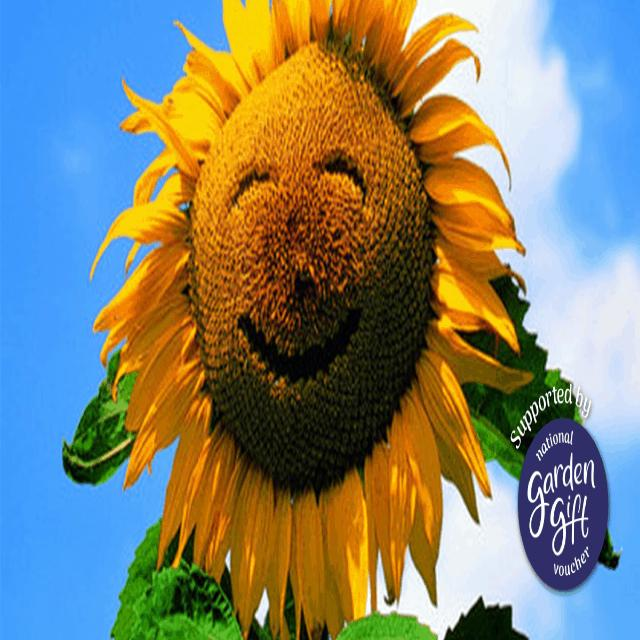sunflower: (91, 11, 523, 640)
